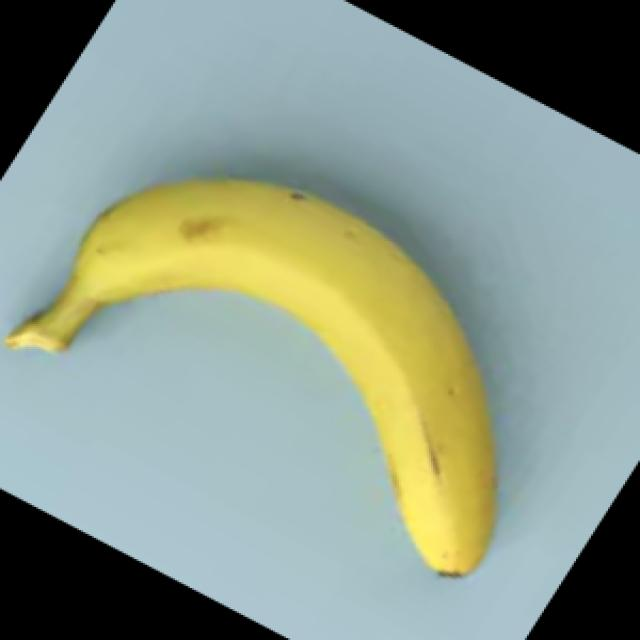god quality banana: (6, 183, 495, 576)
